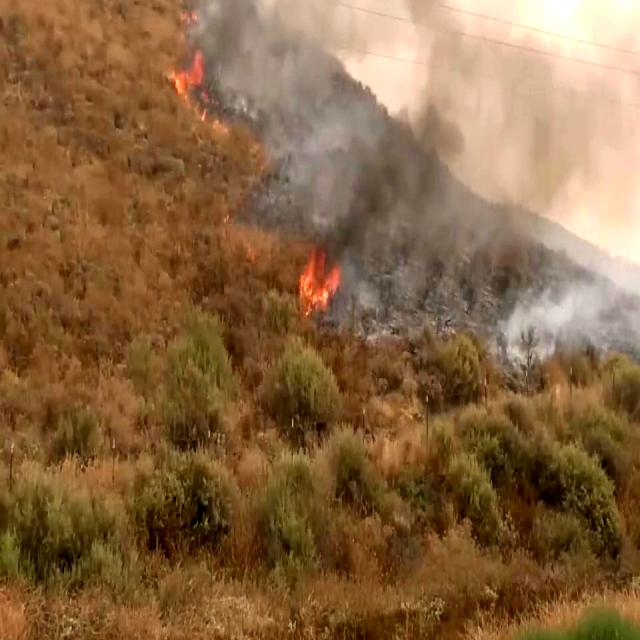fire: (304, 205, 350, 349), (170, 48, 216, 117)
smoke: (233, 0, 640, 206)
